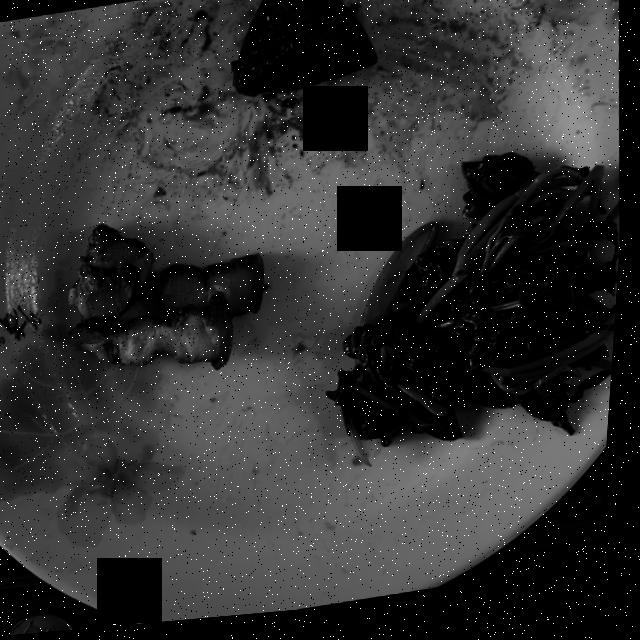coin: (15, 614, 82, 637)
grilled pork: (73, 226, 268, 373)
sweet potato leaves: (334, 162, 623, 471)
